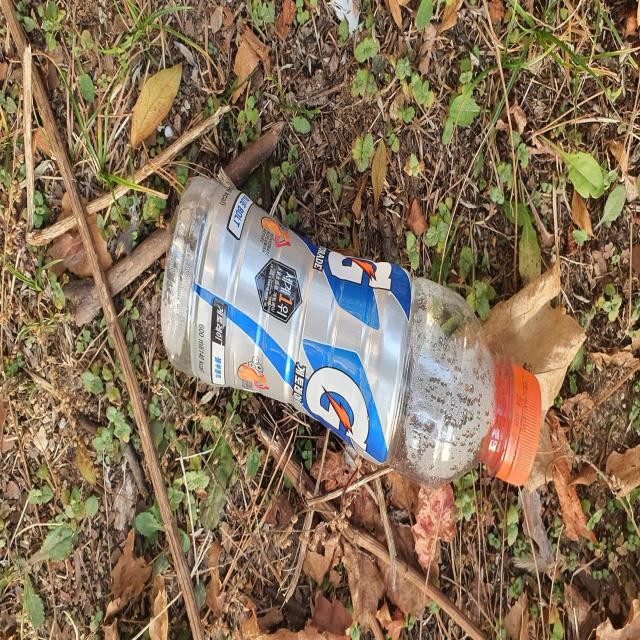plastic: (161, 175, 542, 487)
